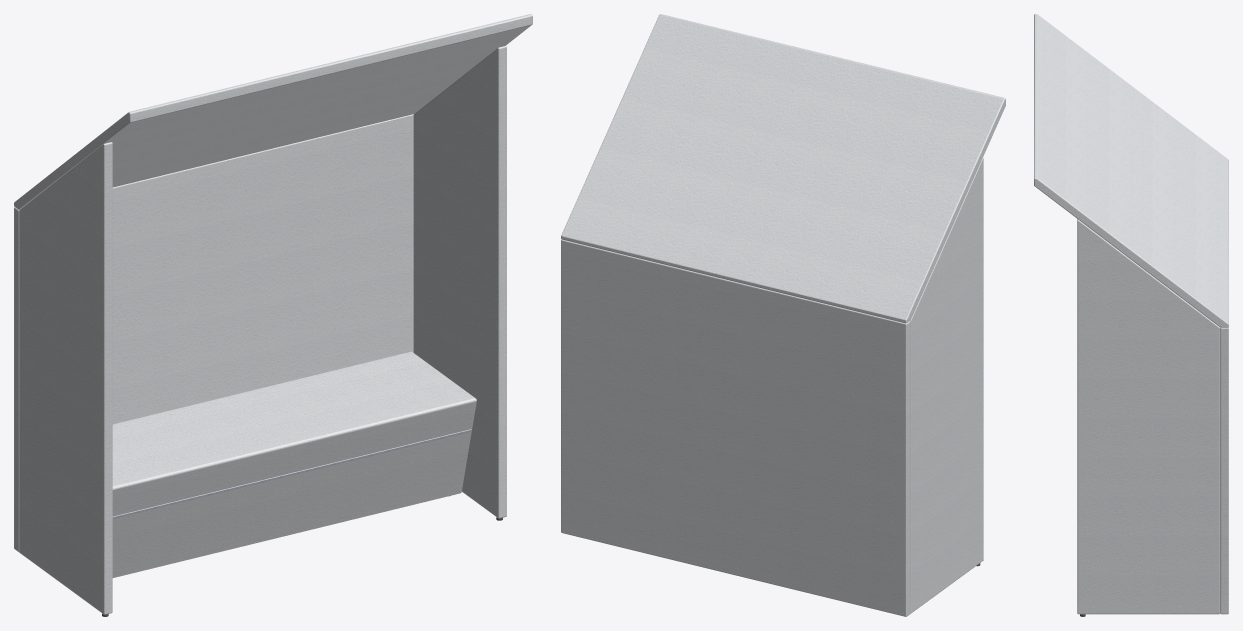
Rendered from Furniture_Chairs-Stools-Benches_Gotessons_Time-Out.glb.
The picture shows the model from 3 angles, left to right: view 1: azimuth 30°, elevation 25°; view 2: azimuth 150°, elevation 25°; view 3: azimuth 270°, elevation 25°; orthographic projection. The views are drawn at different scales.
Parts seen in each view (by area): view 1: L_f91229de_7316_4dda_a7c7_fdae6547552e_C1_I12, L_63ee5f6a_7d3d_410b_ae5e_6a7d1710d405_C1_I4, L_f7e68225_67a2_40eb_bae9_ac132a6924d1_C1_I11, L_a9f732b4_dccf_45ab_9c56_6bf96cf42121_C1_I7, L_5765366c_5264_4302_8ad4_3a120dbe00b4_C1_I3, L_0160b0a8_27d8_4d53_bb06_bc66e758bed5_C1_I1; view 2: L_f91229de_7316_4dda_a7c7_fdae6547552e_C1_I12, L_5765366c_5264_4302_8ad4_3a120dbe00b4_C1_I3, L_f7e68225_67a2_40eb_bae9_ac132a6924d1_C1_I11; view 3: L_a9f732b4_dccf_45ab_9c56_6bf96cf42121_C1_I7, L_5765366c_5264_4302_8ad4_3a120dbe00b4_C1_I3, L_f91229de_7316_4dda_a7c7_fdae6547552e_C1_I12.
Part boxes in pixels (bbox=[...]): L_f91229de_7316_4dda_a7c7_fdae6547552e_C1_I12: bbox=[14, 114, 413, 551]; L_63ee5f6a_7d3d_410b_ae5e_6a7d1710d405_C1_I4: bbox=[112, 351, 476, 577]; L_f7e68225_67a2_40eb_bae9_ac132a6924d1_C1_I11: bbox=[19, 142, 112, 614]; L_a9f732b4_dccf_45ab_9c56_6bf96cf42121_C1_I7: bbox=[413, 46, 506, 518]; L_5765366c_5264_4302_8ad4_3a120dbe00b4_C1_I3: bbox=[14, 14, 532, 210]; L_0160b0a8_27d8_4d53_bb06_bc66e758bed5_C1_I1: bbox=[112, 429, 471, 518]; L_f91229de_7316_4dda_a7c7_fdae6547552e_C1_I12: bbox=[561, 239, 910, 616]; L_5765366c_5264_4302_8ad4_3a120dbe00b4_C1_I3: bbox=[561, 14, 1005, 323]; L_f7e68225_67a2_40eb_bae9_ac132a6924d1_C1_I11: bbox=[910, 157, 983, 613]; L_a9f732b4_dccf_45ab_9c56_6bf96cf42121_C1_I7: bbox=[1077, 219, 1220, 614]; L_5765366c_5264_4302_8ad4_3a120dbe00b4_C1_I3: bbox=[1034, 14, 1228, 327]; L_f91229de_7316_4dda_a7c7_fdae6547552e_C1_I12: bbox=[1220, 327, 1228, 614].
Size of the model in its own units: 1.8 by 2.24 by 0.9.
Materials: 3 (2 with a texture image).
